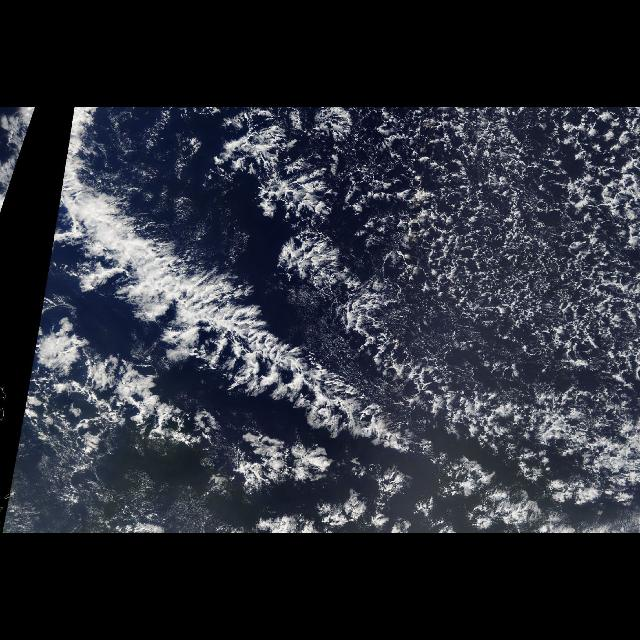Fish: (37, 109, 595, 534)
Gravel: (249, 108, 639, 526), (12, 384, 112, 530)
